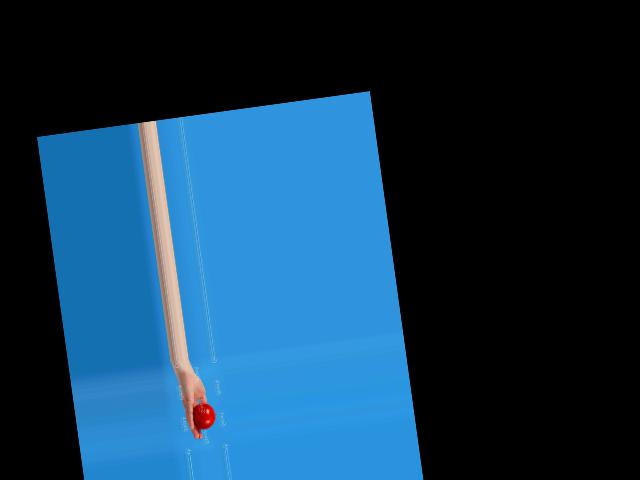tomato: (191, 401, 216, 430)
